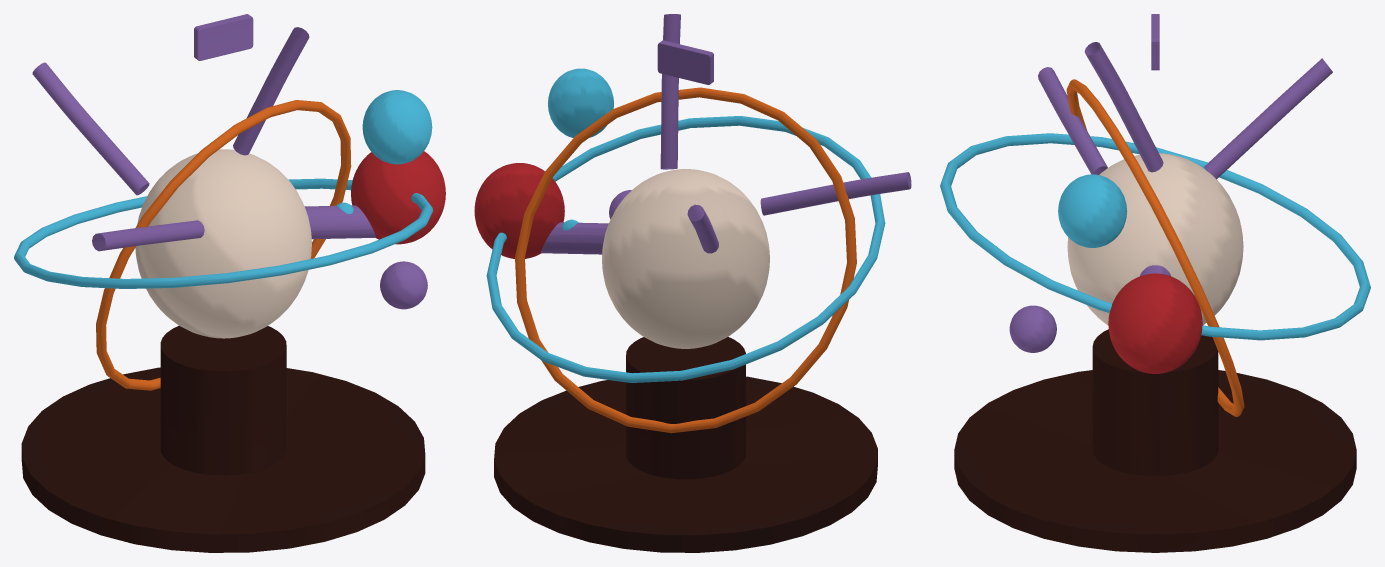
File: 0519_生活中的化学图鉴_灭火器.glb
The picture shows the model from 3 angles, left to right: view 1: azimuth 30°, elevation 25°; view 2: azimuth 150°, elevation 25°; view 3: azimuth 270°, elevation 25°; orthographic projection. The views are drawn at different scales.
Parts seen in each view (by area): view 1: card_0519; view 2: card_0519; view 3: card_0519.
Part boxes in pixels (left/top/right/bottom): card_0519: left=14, top=14, right=445, bottom=552; card_0519: left=474, top=14, right=911, bottom=552; card_0519: left=940, top=14, right=1370, bottom=552.
Size of the model in its own units: 0.9274 by 1 by 0.8751.
